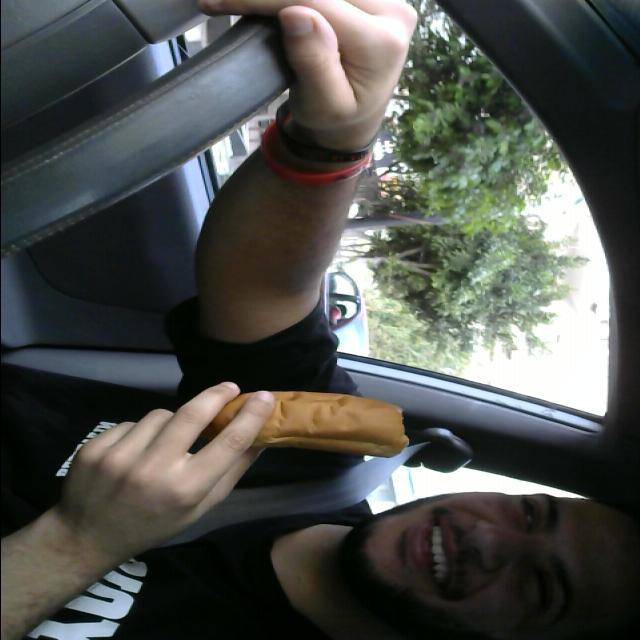eating: (212, 380, 412, 460)
